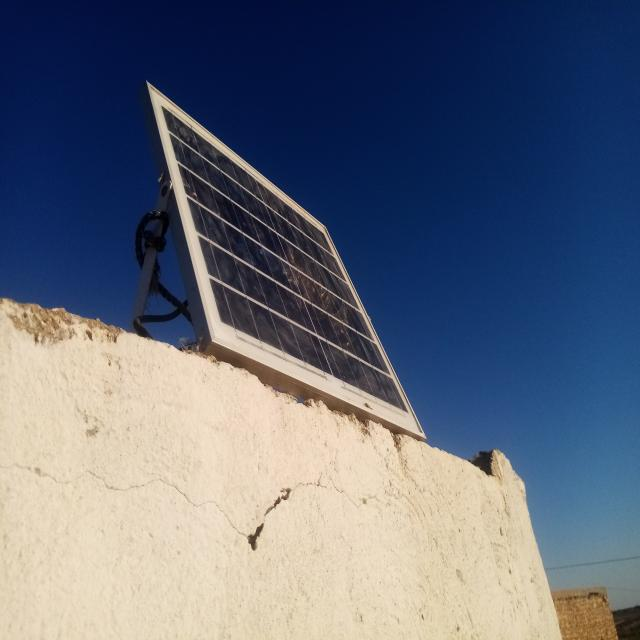faulty: (148, 83, 425, 436)
